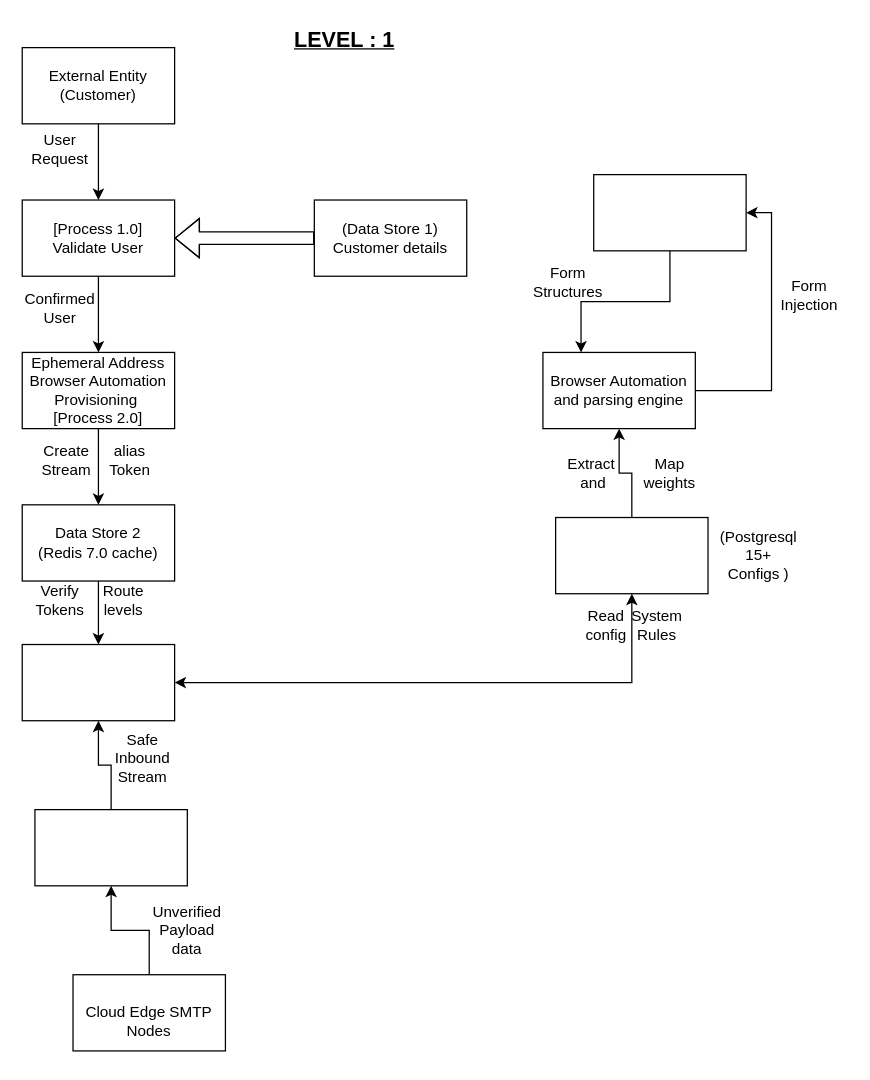
This 870x1080 diagram has some shape labels left out. The shapes that lost their labels are listed below. From the top down, each one's box as (x1, y1, x2, y2) in pixels, then its label:
(592, 173, 746, 251): External webpage
(554, 516, 708, 594): Data store 3
(21, 643, 175, 721): Inbound Mail Processing and Routing [Process 3.0]
(34, 808, 187, 886): Cloud inbox Inspection [process 4.0]
